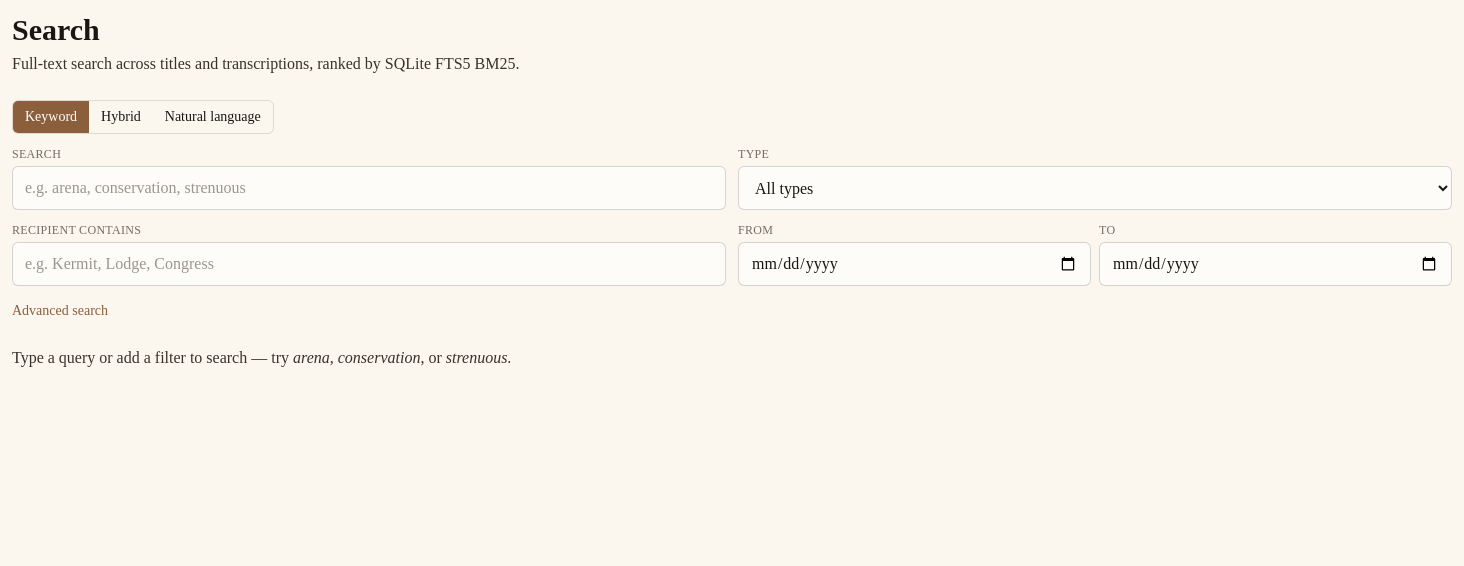
Test: SearchPage lazy pagination › searches by recipient without requiring a full-text query
Type " Lodge " into the field labelled "Recipient contains" at [369, 264], box [12,242,726,286]
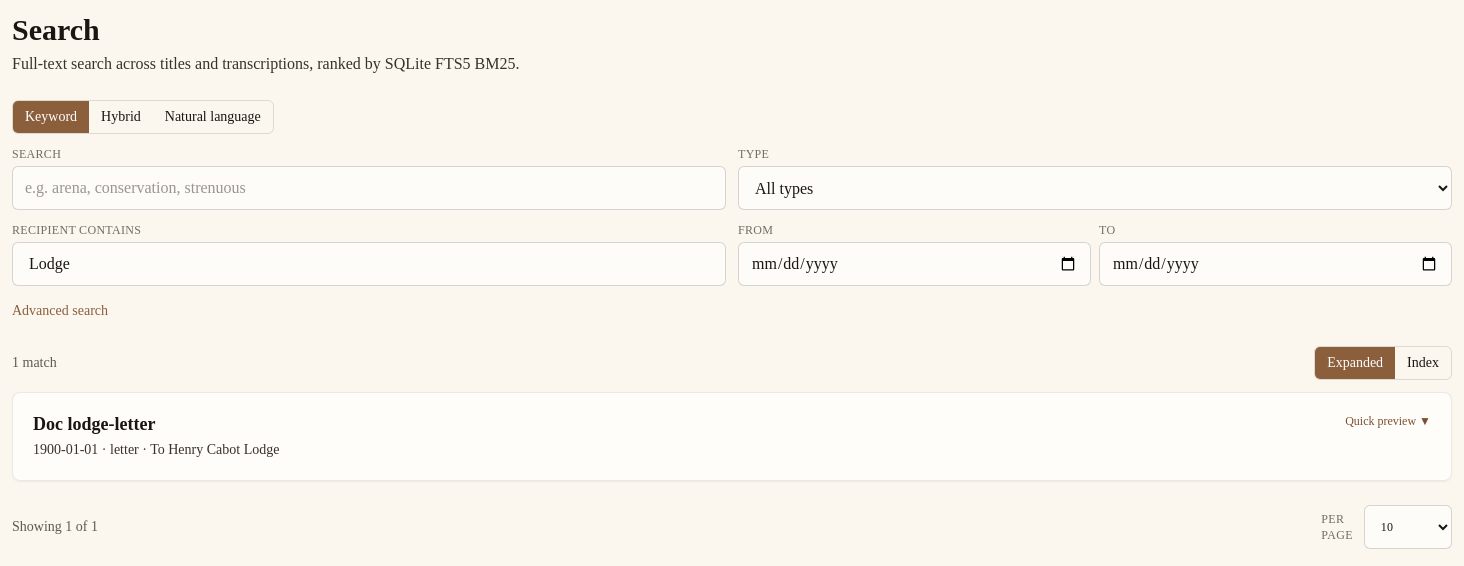
Result: the link "Doc lodge-letter" is shown at [33,414,156,434]
